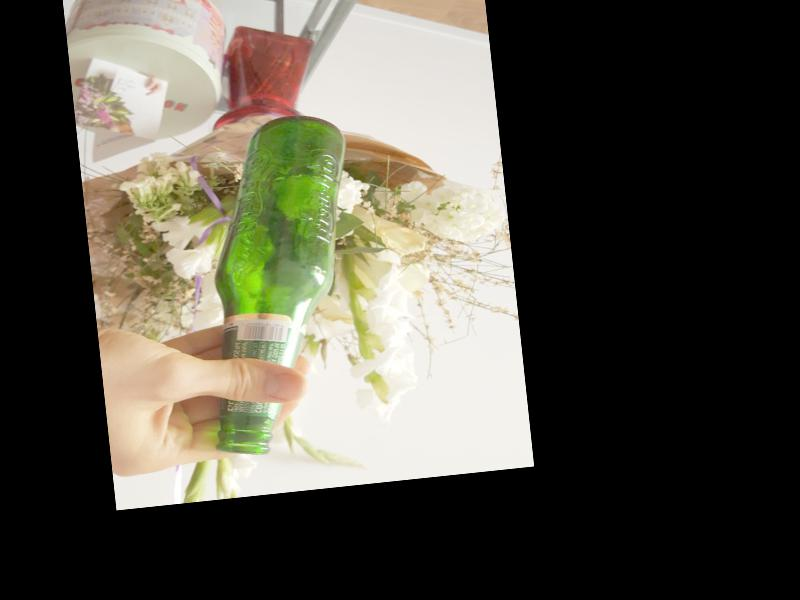Beer: (198, 111, 376, 457)
